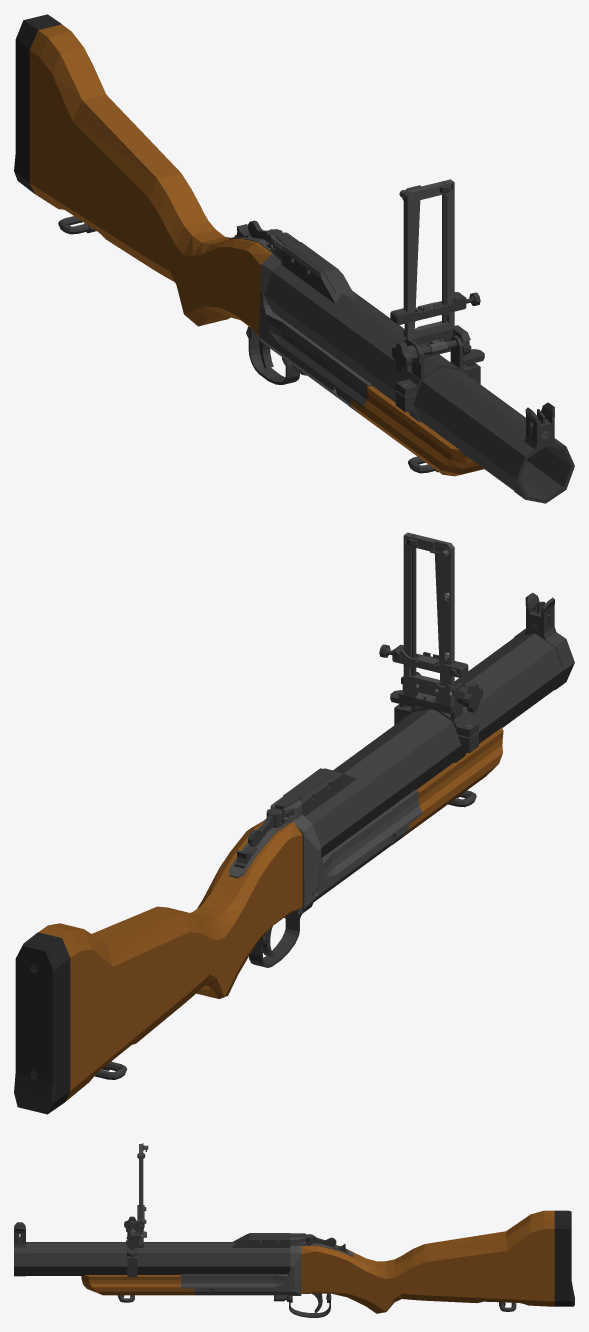
The model's file is M79 Grenade Launcher 1.fbx.
3 renders of one model, top to bottom at view 1: azimuth 30°, elevation 25°; view 2: azimuth 150°, elevation 25°; view 3: azimuth 270°, elevation 25°, orthographic. The views are drawn at different scales.
Parts seen in each view (by area): view 1: M79 Grenade Launcher 1, M79 Grenade Launcher 1 Barrel 1, M79 Grenade Launcher 1 Rearsight 1, M79 Grenade Launcher 1 Rearsight Base 1, M79 Grenade Launcher 1 Aperture 1, M79 Grenade Launcher 1 Frontsight 1, M79 Grenade Launcher 1 Trigger Guard 1; view 2: M79 Grenade Launcher 1, M79 Grenade Launcher 1 Barrel 1, M79 Grenade Launcher 1 Rearsight 1, M79 Grenade Launcher 1 Rearsight Base 1, M79 Grenade Launcher 1 Trigger Guard 1, M79 Grenade Launcher 1 Aperture 1, M79 Grenade Launcher 1 Frontsight 1; view 3: M79 Grenade Launcher 1, M79 Grenade Launcher 1 Barrel 1, M79 Grenade Launcher 1 Rearsight 1, M79 Grenade Launcher 1 Rearsight Base 1, M79 Grenade Launcher 1 Trigger Guard 1, M79 Grenade Launcher 1 Latch 1, M79 Grenade Launcher 1 Frontsight 1.
Boxes of the visible parts, x1,y1,x2,y2 form: M79 Grenade Launcher 1: (14, 14, 347, 404); M79 Grenade Launcher 1 Barrel 1: (264, 233, 574, 503); M79 Grenade Launcher 1 Rearsight 1: (399, 179, 471, 366); M79 Grenade Launcher 1 Rearsight Base 1: (395, 335, 480, 421); M79 Grenade Launcher 1 Aperture 1: (390, 292, 466, 324); M79 Grenade Launcher 1 Frontsight 1: (525, 402, 554, 443); M79 Grenade Launcher 1 Trigger Guard 1: (246, 326, 299, 384); M79 Grenade Launcher 1: (14, 796, 401, 1114); M79 Grenade Launcher 1 Barrel 1: (275, 625, 574, 857); M79 Grenade Launcher 1 Rearsight 1: (398, 532, 466, 713); M79 Grenade Launcher 1 Rearsight Base 1: (394, 704, 478, 762); M79 Grenade Launcher 1 Trigger Guard 1: (249, 910, 302, 967); M79 Grenade Launcher 1 Aperture 1: (392, 644, 468, 677); M79 Grenade Launcher 1 Frontsight 1: (525, 593, 554, 633); M79 Grenade Launcher 1: (202, 1210, 574, 1313); M79 Grenade Launcher 1 Barrel 1: (14, 1233, 303, 1297); M79 Grenade Launcher 1 Rearsight 1: (126, 1143, 148, 1247); M79 Grenade Launcher 1 Rearsight Base 1: (127, 1225, 137, 1277); M79 Grenade Launcher 1 Trigger Guard 1: (289, 1293, 330, 1317); M79 Grenade Launcher 1 Latch 1: (299, 1234, 336, 1246); M79 Grenade Launcher 1 Frontsight 1: (14, 1222, 25, 1244).
Bounding box in the file's own units: 6.72 × 23.05 × 69.87.
